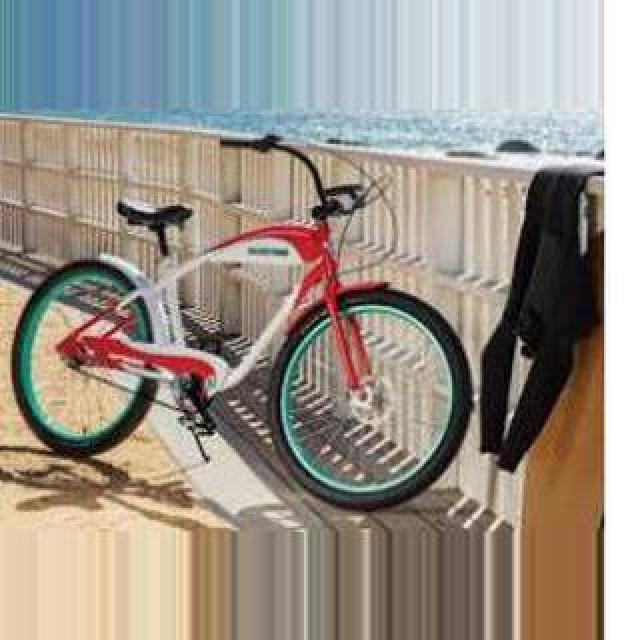Person: (11, 128, 475, 514)
